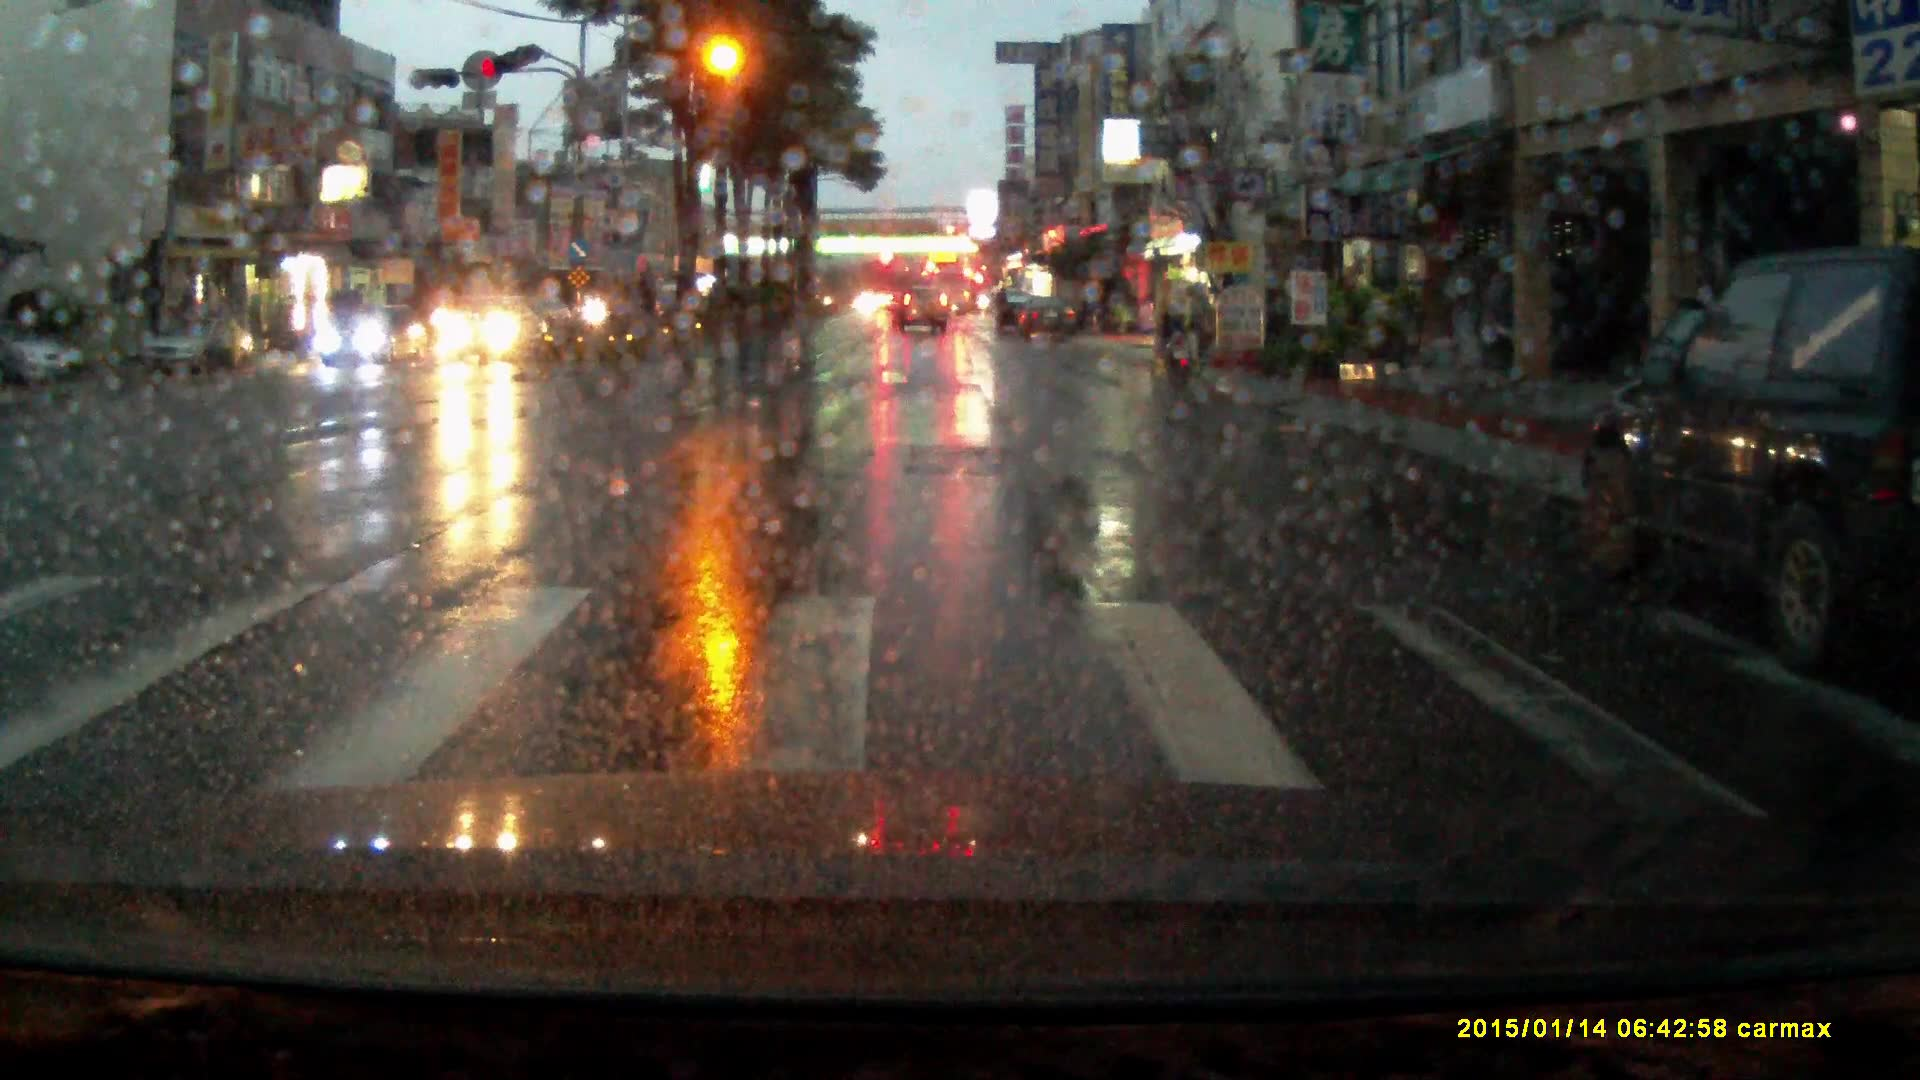rider: (201, 303, 247, 374)
vehicle: (1572, 245, 1920, 677), (141, 304, 259, 376), (317, 303, 430, 371), (443, 289, 546, 361), (568, 270, 661, 328), (1, 320, 69, 384), (893, 283, 951, 334), (1017, 299, 1079, 341), (927, 263, 967, 319), (991, 290, 1030, 332), (860, 287, 898, 316)
